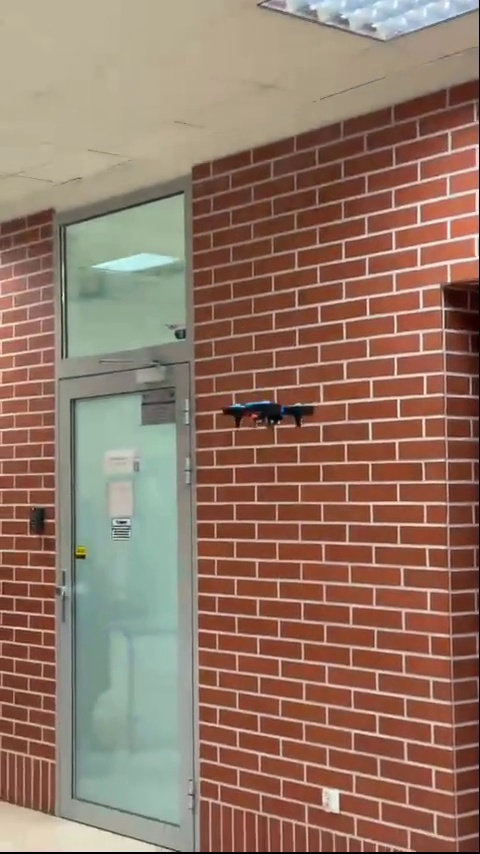drone: (222, 397, 313, 431)
